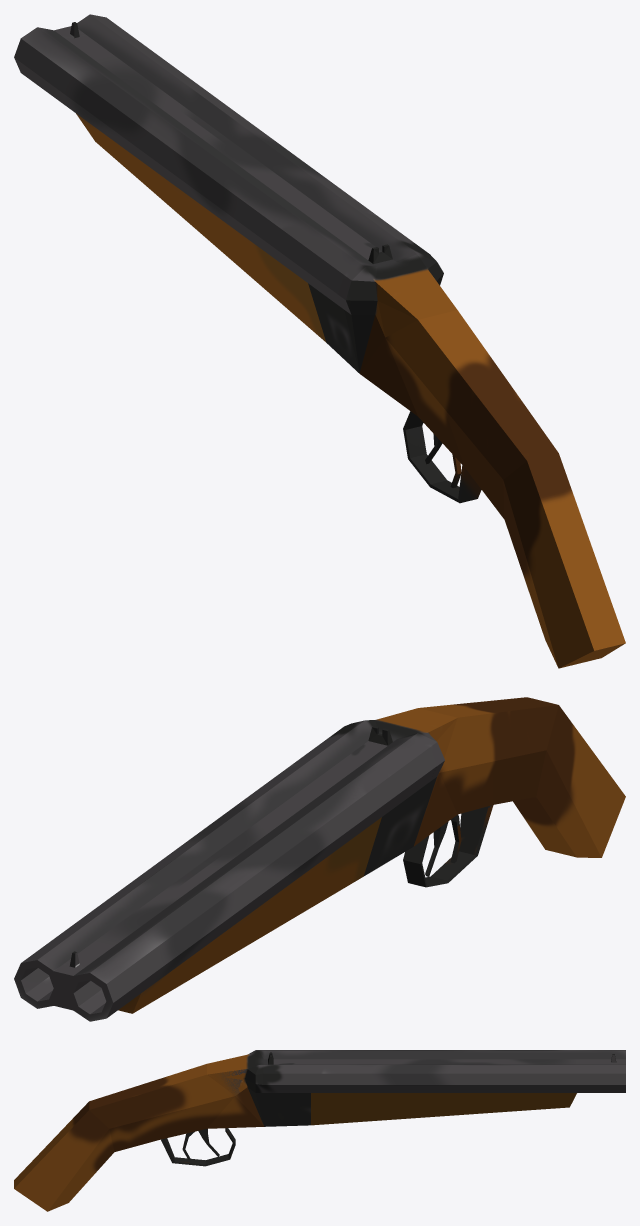
The model's file is shotgun.glb.
3 renders of one model, top to bottom at view 1: azimuth 30°, elevation 25°; view 2: azimuth 150°, elevation 25°; view 3: azimuth 270°, elevation 25°, orthographic. The views are drawn at different scales.
Visible parts, largest first — view 1: GUN; view 2: GUN; view 3: GUN.
Boxes of the visible parts, x1=… form: GUN: x1=14, y1=14, x2=625, y2=668; GUN: x1=14, y1=697, x2=625, y2=1021; GUN: x1=14, y1=1050, x2=625, y2=1211.
Bounding box in the file's own units: 0.51 × 1.33 × 4.86.
Materials: 1 (1 with a texture image).
